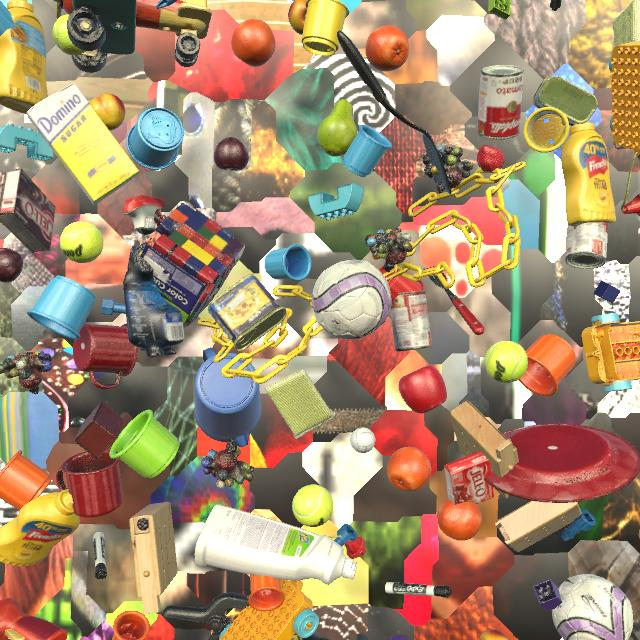ycb_004_sugar_box: (26, 82, 139, 205)
ycb_005_tomato_soup_can: (477, 65, 524, 139), (390, 290, 432, 351), (565, 222, 609, 269)
ycb_006_mustard_bottle: (0, 490, 80, 566), (561, 121, 616, 227), (0, 0, 48, 114)
ycb_008_pudding_box: (0, 168, 56, 253)
ycb_009_gelatin_box: (444, 451, 494, 505)
ycb_010_potted_meat_can: (208, 274, 287, 352), (533, 76, 598, 126)
ycb_012_strawberry: (477, 145, 505, 173)
ycb_013_apple: (398, 365, 447, 414)
ycb_015_peach: (89, 93, 125, 131), (288, 0, 307, 35), (478, 629, 509, 640)
ycb_016_pear: (317, 99, 358, 157)
ycb_017_orange: (231, 19, 276, 67), (365, 25, 409, 72), (387, 447, 431, 492), (437, 498, 482, 541)
ycb_018_plum: (214, 137, 249, 171), (0, 248, 23, 283)
